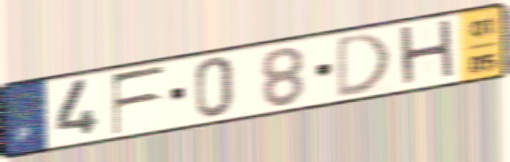0: (192, 54, 242, 121)
4: (52, 75, 107, 143)
8: (258, 45, 308, 108)
D: (334, 30, 394, 102)
F: (108, 63, 169, 138)
H: (396, 16, 459, 91)
